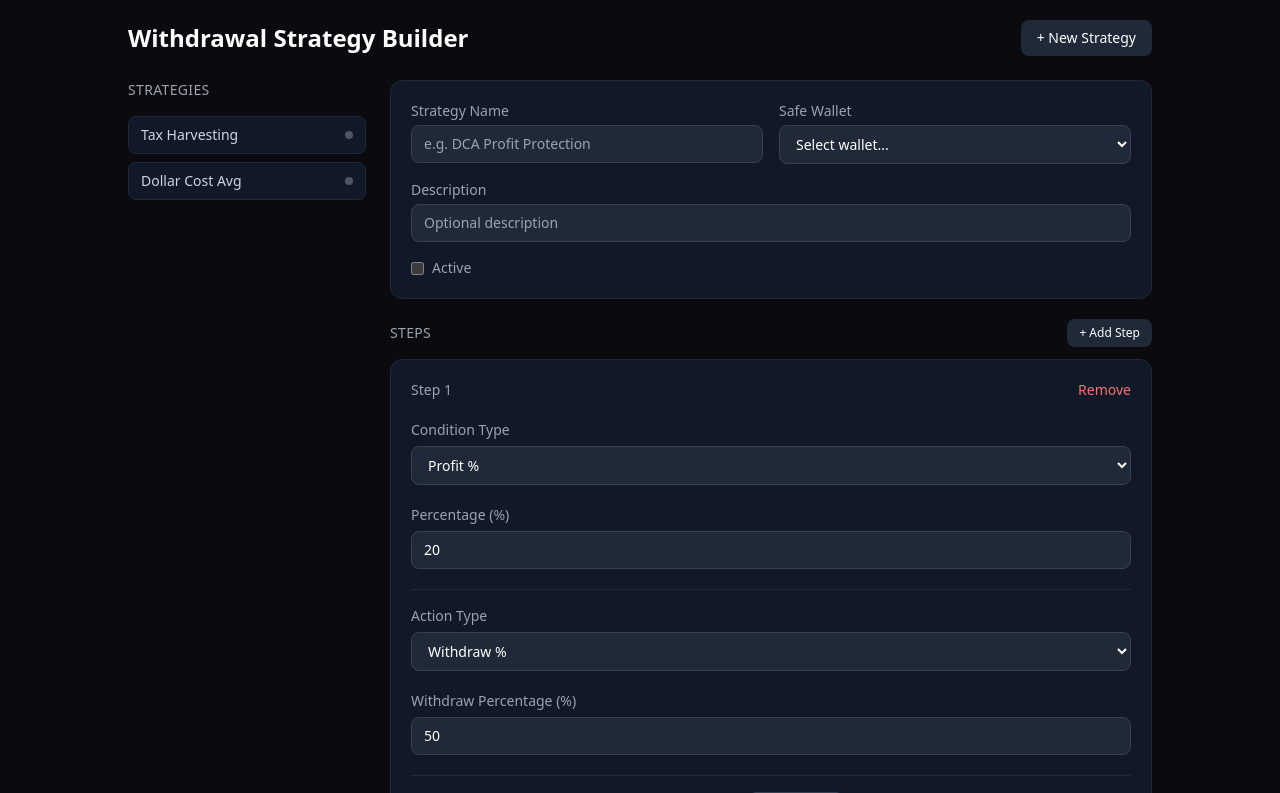
it: WithdrawalPage › selects a strategy and shows editor fields
Expected: the text "Tax Harvesting" is shown, [141,125,238,145]
Click the button "Tax Harvesting".
click(247, 135)  # box [128,116,366,154]
(page scrolled)
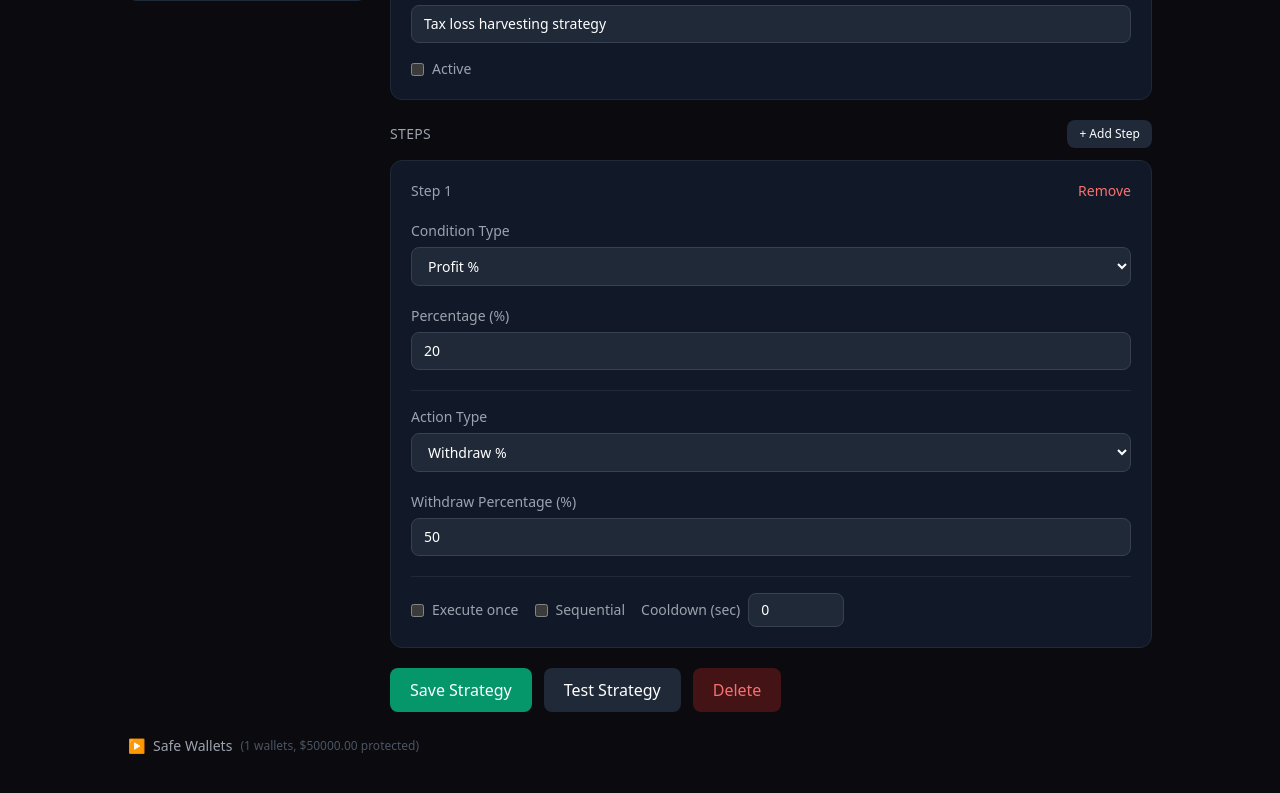
Expected: the text "Active" is shown, [411,59,471,78]
Expected: the button "Test Strategy" is shown, [544,668,681,712]
Expected: the button "Delete" is shown, [693,668,781,712]
